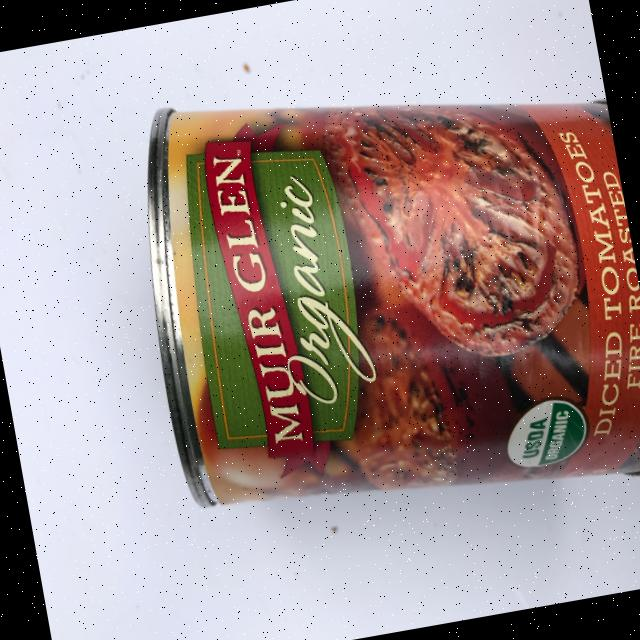metal: (115, 29, 640, 552)
